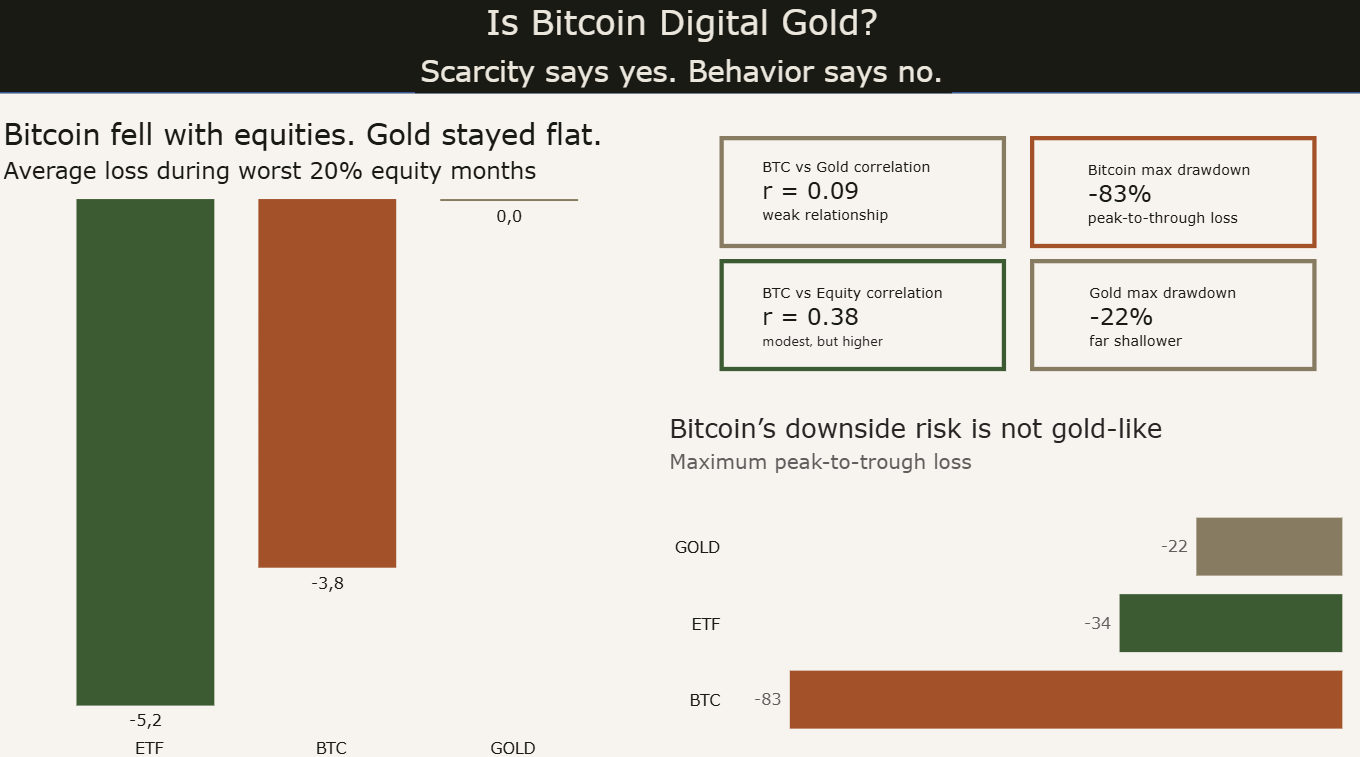

This screenshot's page, from the dashboard's own definition file:
{"tool":"powerbi","page":{"name":"Hero","canvas":[1280,720],"ordinal":0},"visuals":[{"type":"columnChart","title":"Bitcoin fell with equities. Gold stayed flat.","fields":{"Category":["executive_safe_haven.asset"],"Y":["Sum(executive_safe_haven.avg_return_bad_equity_months)"]},"box":[0,113.1,620.7,607.6],"z":0},{"type":"barChart","title":"Bitcoin’s downside risk is not gold-like","fields":{"Category":["executive_drawdown.asset"],"Y":["Sum(executive_drawdown.max_drawdown_pct)"]},"box":[621.1,388.7,637.9,331.8],"z":1000},{"type":"shape","box":[672.7,131.7,267.3,104.6],"z":2000},{"type":"textbox","box":[707.6,145.9,185.9,78.8],"z":3000},{"type":"shape","box":[961.9,131.7,267.3,104.6],"z":4000},{"type":"shape","box":[672.7,246.6,267.3,104.6],"z":5000},{"type":"shape","box":[961.9,246.6,267.3,104.6],"z":6000},{"type":"textbox","box":[1011.6,147.7,192.2,73],"z":7000},{"type":"textbox","box":[707.6,263.4,218.2,73],"z":8000},{"type":"textbox","box":[1012.3,263.4,167.9,73],"z":9000},{"type":"shape","box":[0,0,1280.9,91.7],"z":10000},{"type":"textbox","box":[450.8,0,378.3,50.4],"z":11000},{"type":"textbox","box":[388.7,49.1,501,42.6],"z":12000}]}

Visuals, with their boxes in screenshot pixels (x1, y1, x2, y2), scaled from the page's 1280x720 canvas onto the 1360x757 screenshot:
"Bitcoin fell with equities. Gold stayed flat." columnChart: bbox=(0, 119, 659, 756)
"Bitcoin’s downside risk is not gold-like" barChart: bbox=(660, 409, 1338, 756)
shape: bbox=(715, 138, 999, 248)
textbox: bbox=(752, 153, 949, 236)
shape: bbox=(1022, 138, 1306, 248)
shape: bbox=(715, 259, 999, 369)
shape: bbox=(1022, 259, 1306, 369)
textbox: bbox=(1075, 155, 1279, 232)
textbox: bbox=(752, 277, 984, 354)
textbox: bbox=(1076, 277, 1254, 354)
shape: bbox=(0, 0, 1359, 96)
textbox: bbox=(479, 0, 881, 53)
textbox: bbox=(413, 52, 945, 96)
